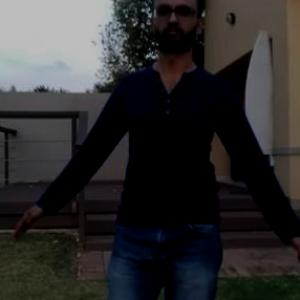land: (62, 21, 299, 299)
